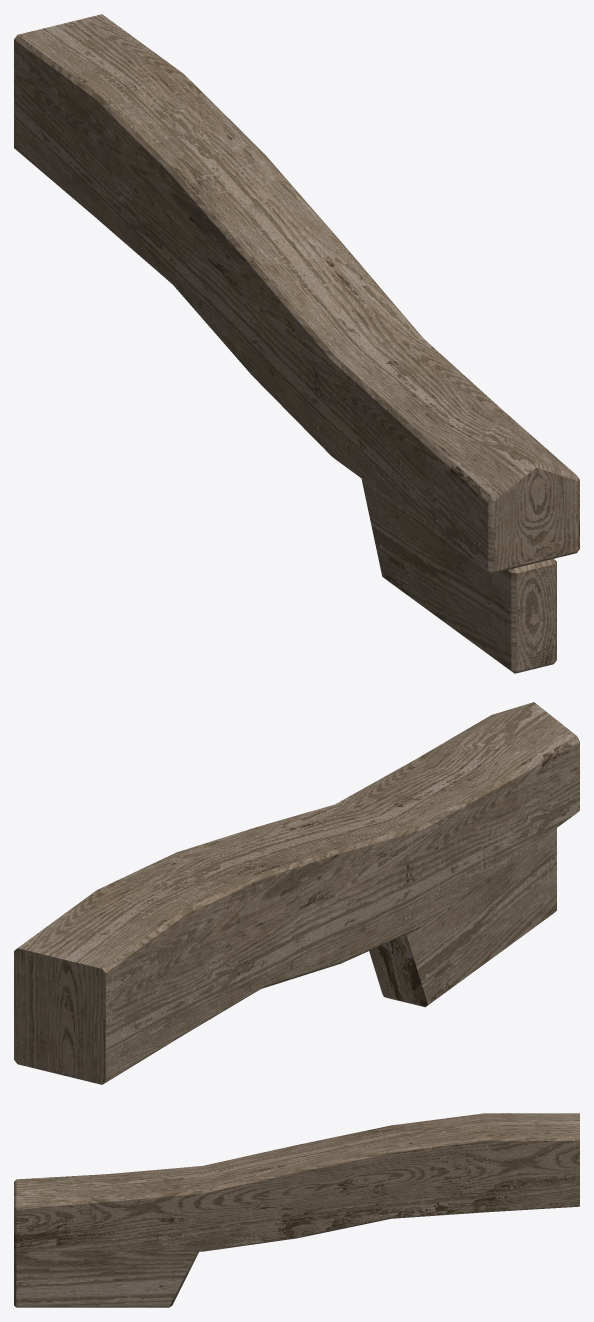
File: SM_GPG_Toetbo01a.fbx
3 renders of one model, top to bottom at view 1: azimuth 30°, elevation 25°; view 2: azimuth 150°, elevation 25°; view 3: azimuth 270°, elevation 25°, orthographic. The views are drawn at different scales.
Parts seen in each view (by area): view 1: SM_GPG_Toetbo01a; view 2: SM_GPG_Toetbo01a; view 3: SM_GPG_Toetbo01a.
Part boxes in pixels (x1,y1,x2,y2): SM_GPG_Toetbo01a: [14, 14, 579, 673]; SM_GPG_Toetbo01a: [14, 702, 579, 1084]; SM_GPG_Toetbo01a: [14, 1113, 579, 1307].
Bounding box in the file's own units: 20 × 180 × 62.
1 material, 1 textured.
